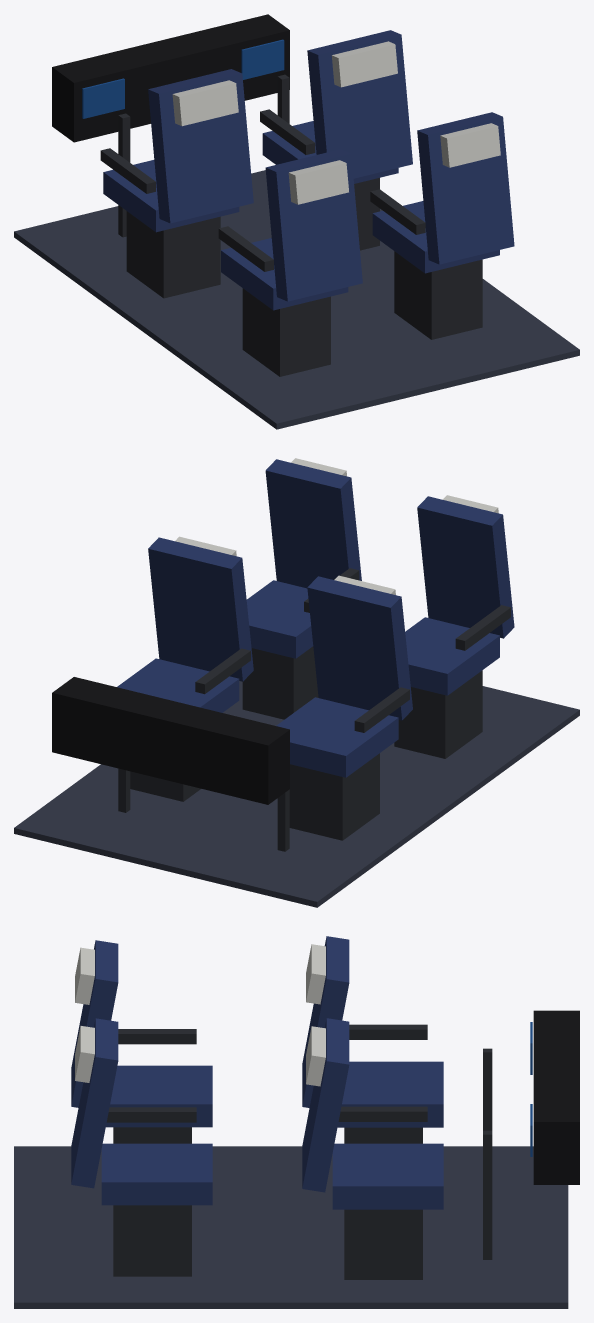
Rendered from lat_heli_cabin.dae.
The picture shows the model from 3 angles, top to bottom: view 1: azimuth 30°, elevation 25°; view 2: azimuth 150°, elevation 25°; view 3: azimuth 270°, elevation 25°; orthographic projection. The views are drawn at different scales.
Visible parts, largest first — view 1: lat_heli_cabin64; view 2: lat_heli_cabin64; view 3: lat_heli_cabin64.
Part boxes in pixels (x1,y1,x2,y2): lat_heli_cabin64: [14, 14, 579, 429]; lat_heli_cabin64: [14, 458, 579, 907]; lat_heli_cabin64: [14, 936, 579, 1308].
Bounding box in the file's own units: 1.6 × 2.45 × 1.11.
